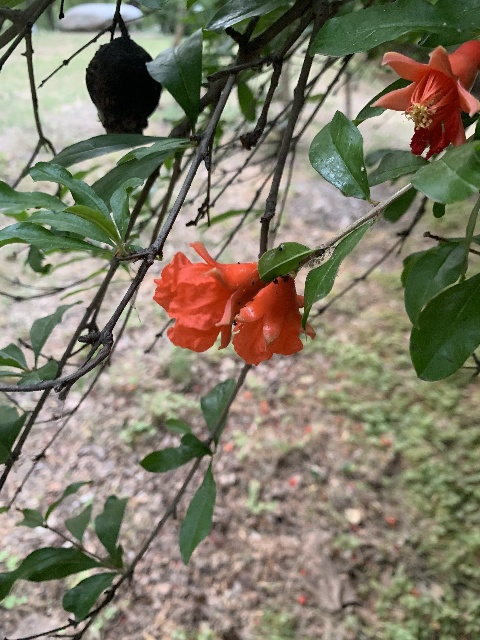flower: (152, 241, 270, 353), (370, 41, 479, 160), (230, 276, 310, 365)
